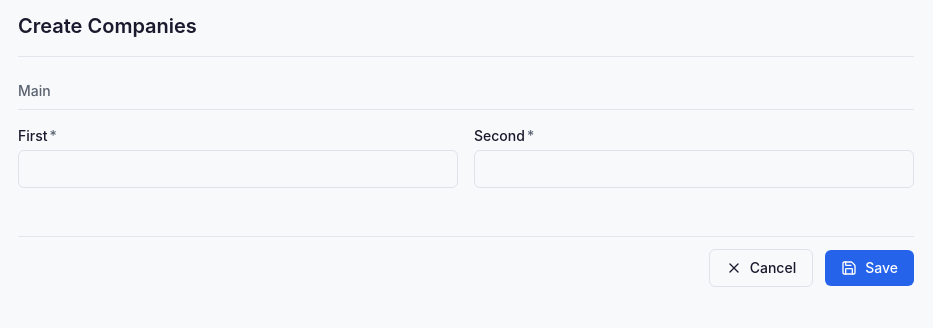
Test case: Quiet record form validation › moves focus to the first invalid field on save and keeps every error live afterward
Click the button "Save" at (870, 268), box [825,250,914,286]
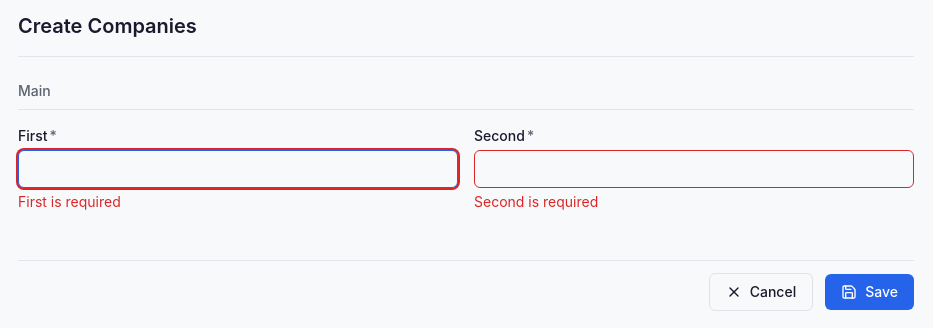
Check: the text "First is required" is shown, box [18,192,121,212]
Check: the text "Second is required" is shown, box [474,192,598,212]
Type "y" into the field labelled "Second*" at (694, 169), box [474,150,914,188]
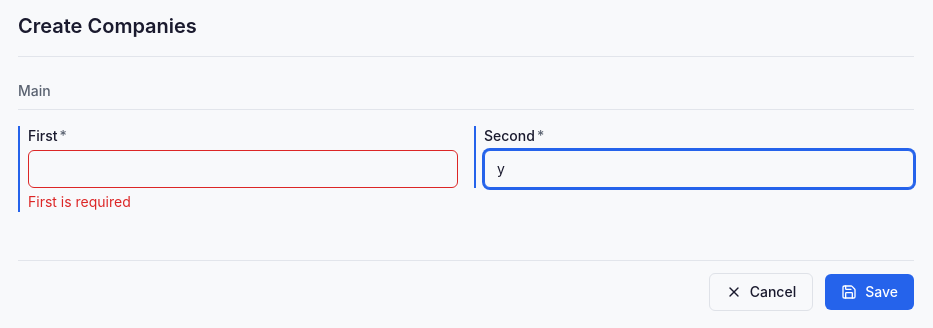
Check: the text "First is required" is shown, box [28,192,131,212]
Check: the text "Second is required" is gone
